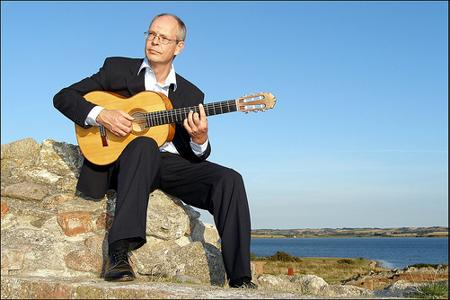person: (53, 14, 257, 290)
